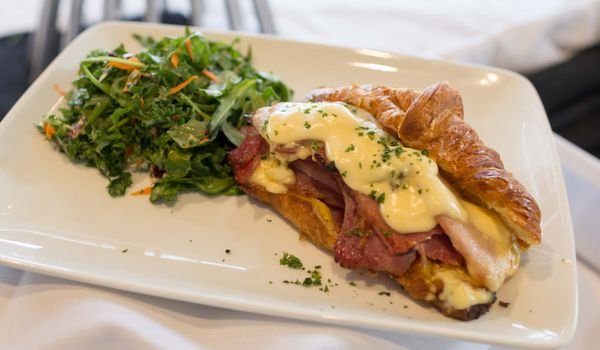soup: (227, 87, 540, 323)
